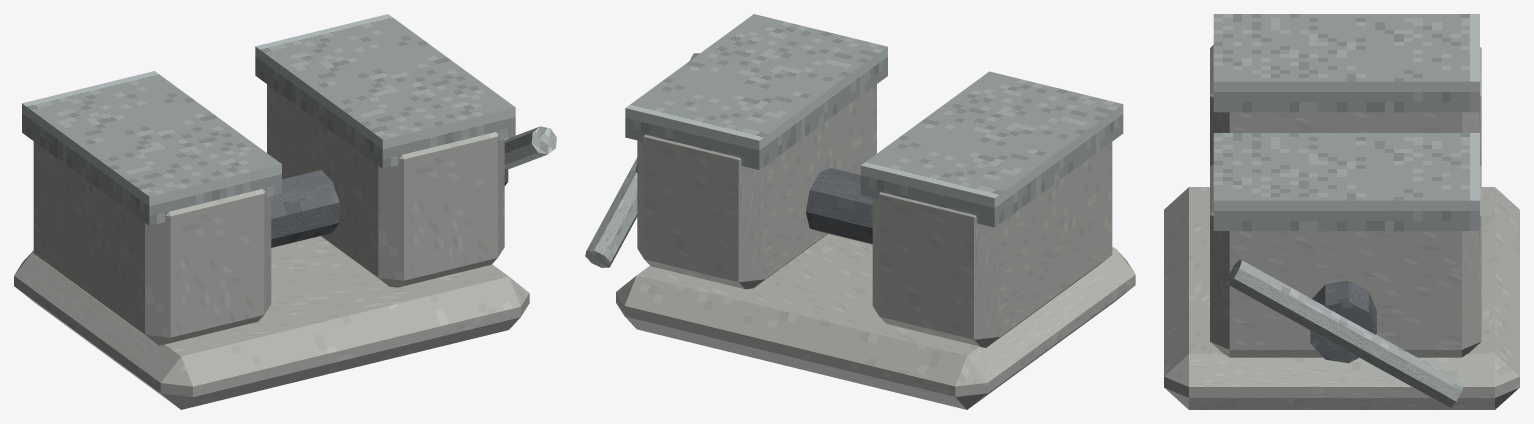
File: bench_vise.glb
3 views of the same model, side by side, from view 1: azimuth 30°, elevation 25°; view 2: azimuth 150°, elevation 25°; view 3: azimuth 270°, elevation 25° (orthographic). The views are drawn at different scales.
Visible parts, largest first — view 1: block_vise jaw (×2), block_jaw face (×2), block_fixed vise base, block_slide screw, block_sliding crank; view 2: block_vise jaw (×2), block_jaw face (×2), block_fixed vise base, block_slide screw, block_sliding crank; view 3: block_jaw face (×2), block_vise jaw (×2), block_fixed vise base, block_sliding crank, block_slide screw.
Part boxes in pixels (x1,y1,x2,y2): block_vise jaw (×2): (33,84,504,345); block_jaw face (×2): (22,14,515,225); block_fixed vise base: (14,236,529,409); block_slide screw: (271,169,508,247); block_sliding crank: (504,126,556,169); block_vise jaw (×2): (637,84,1112,347); block_jaw face (×2): (625,14,1123,227); block_fixed vise base: (616,233,1135,409); block_slide screw: (636,163,872,244); block_sliding crank: (585,53,699,267); block_jaw face (×2): (1213,14,1479,230); block_vise jaw (×2): (1210,45,1481,357); block_fixed vise base: (1164,187,1519,409); block_sliding crank: (1226,259,1464,407); block_slide screw: (1310,280,1376,363).
Size of the model in its own units: 0.427 by 0.2046 by 0.3015.
1 material, 1 textured.
